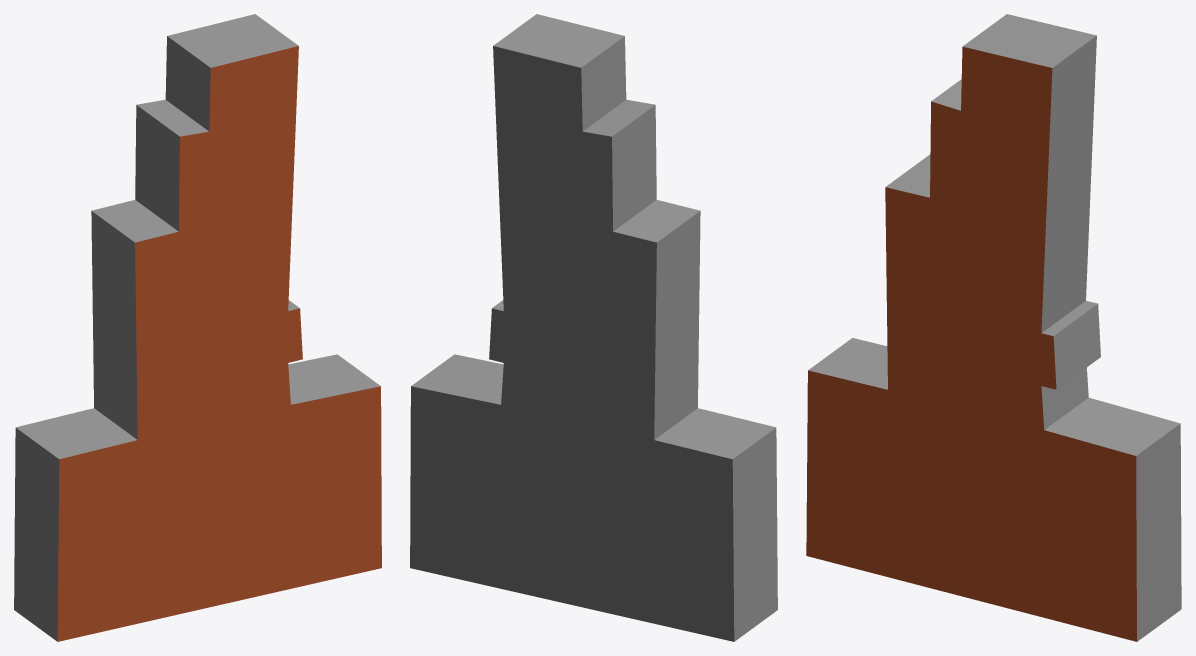
The model's file is construction_1794_assumed_A_Casa_h6m.obj.
3 renders of one model, left to right at view 1: azimuth 30°, elevation 25°; view 2: azimuth 150°, elevation 25°; view 3: azimuth 330°, elevation 25°, orthographic.
Parts seen in each view (by area): view 1: construction_1794_assumed_A_Casa; view 2: construction_1794_assumed_A_Casa; view 3: construction_1794_assumed_A_Casa.
Boxes of the visible parts, x1,y1,x2,y2 form: construction_1794_assumed_A_Casa: (14,14,381,641); construction_1794_assumed_A_Casa: (410,14,777,641); construction_1794_assumed_A_Casa: (806,14,1181,641).
Bounding box in the file's own units: 25.73 × 41.12 × 6.
